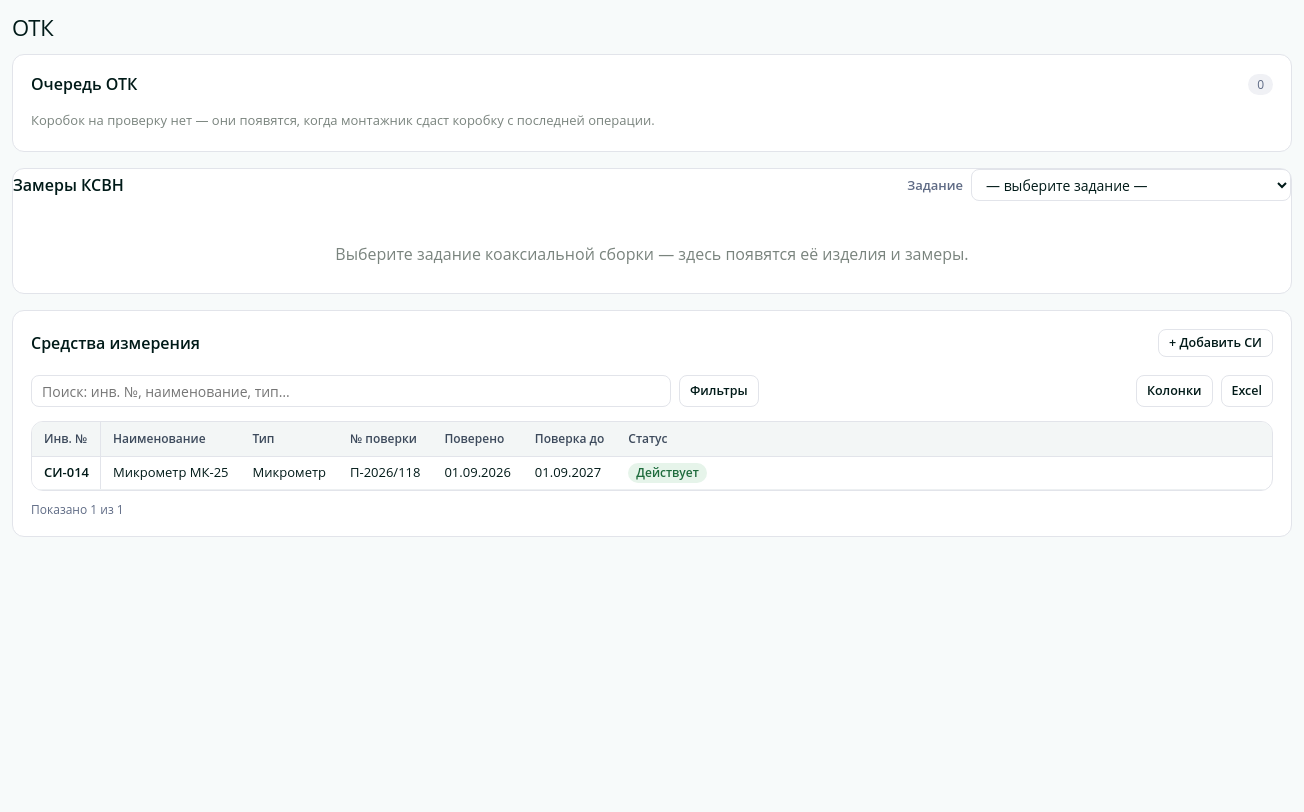
Test: keeps the instrument form closed until «+ Добавить СИ» and lists the instruments in a table
The image size is (1304, 812).
Expected: the column heading "Поверка до" is shown, [523, 422, 616, 457]
Expected: the text "СИ-014" is shown, [32, 457, 101, 490]
Click the button "+ Добавить СИ" at (1216, 343), box [1158, 329, 1273, 357]
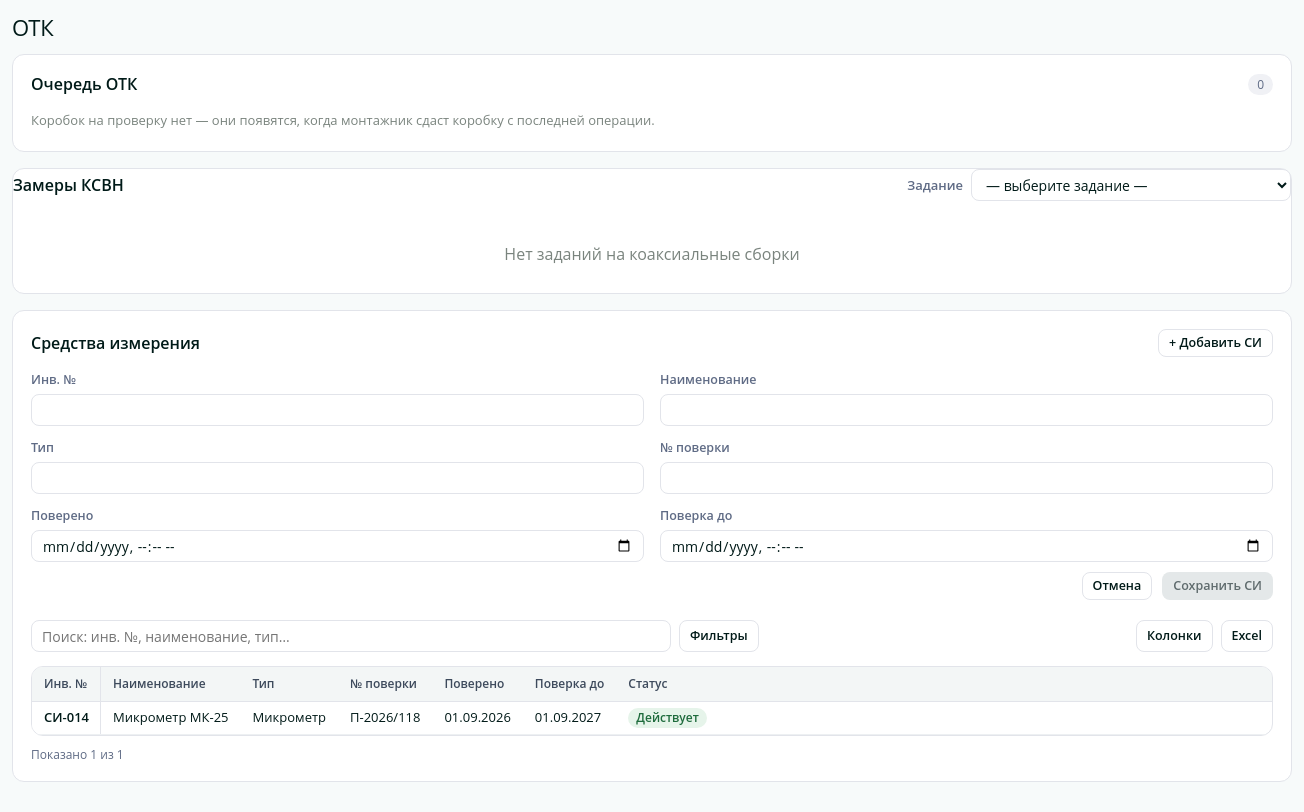
Now the button "Сохранить СИ" is disabled, box [1162, 572, 1273, 600]
